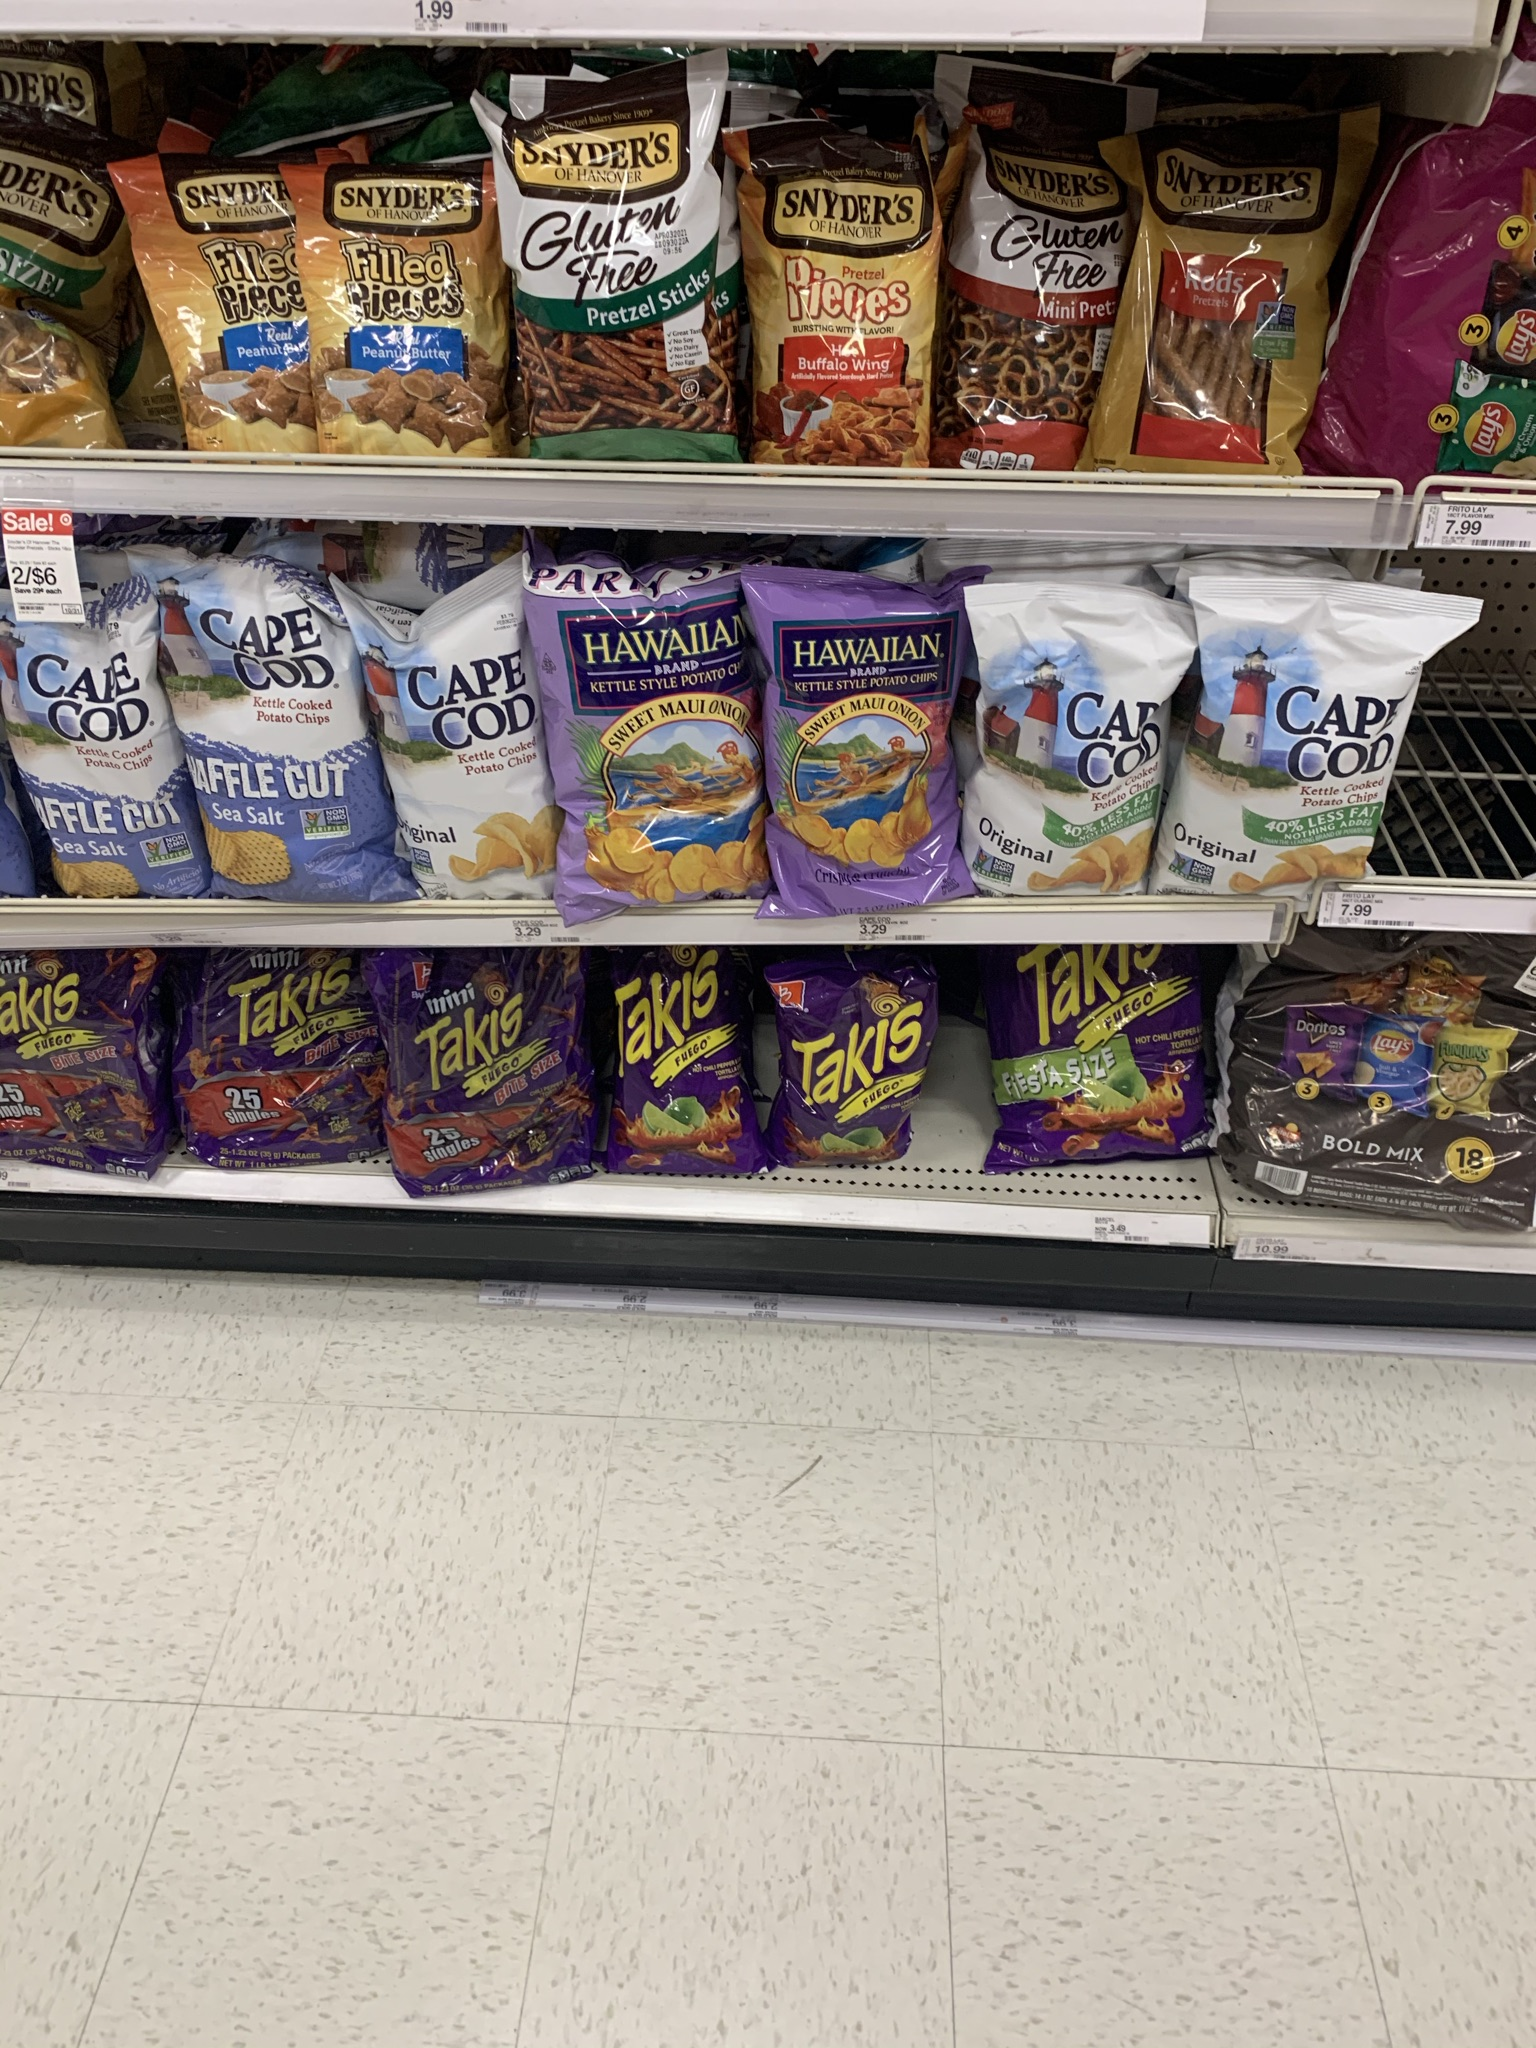cape good: (202, 579, 389, 898), (994, 619, 1184, 898), (11, 597, 187, 885), (1217, 611, 1397, 892), (399, 593, 549, 885)
filles pieces: (329, 185, 499, 464), (148, 194, 303, 471)
snyder's: (511, 119, 742, 476), (765, 148, 933, 510), (971, 153, 1108, 471), (1170, 152, 1309, 464)
takis: (198, 974, 399, 1206), (1013, 951, 1208, 1169), (771, 964, 928, 1197), (419, 971, 578, 1176), (11, 974, 161, 1184), (607, 961, 742, 1166)
